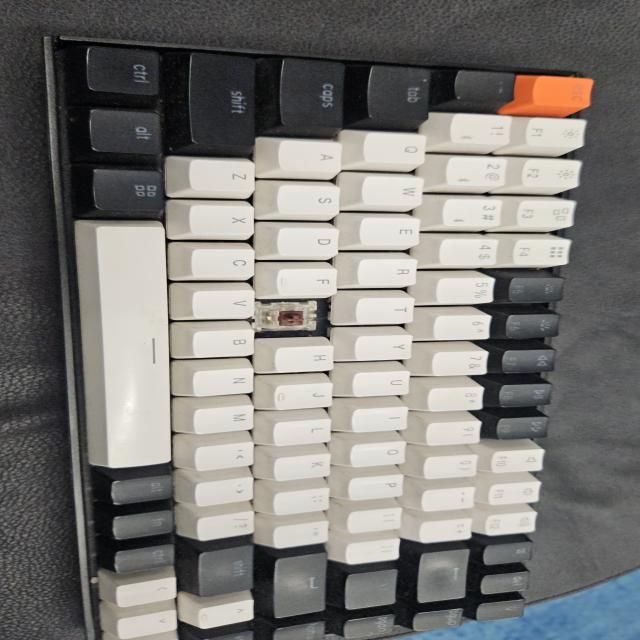C: (261, 300, 321, 335)
